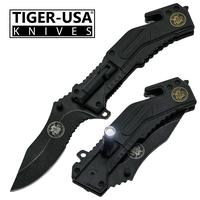knife: (7, 2, 186, 194)
